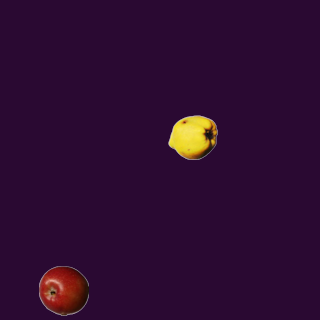Apple Braeburn: (38, 265, 88, 315)
Quince: (167, 112, 217, 162)
